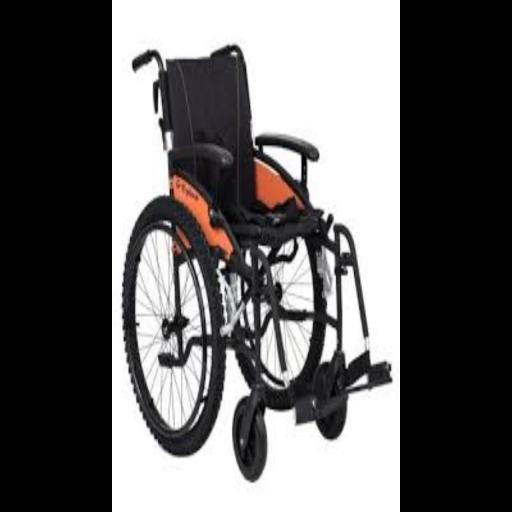cadeira_de_rodas: (120, 41, 397, 487)
